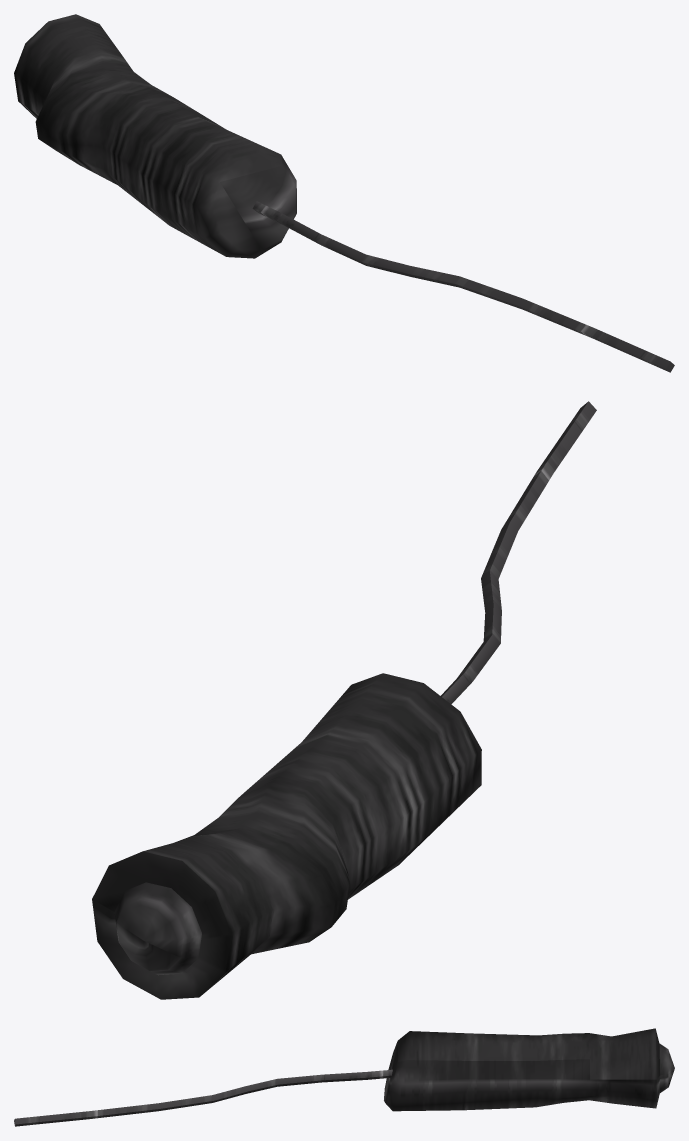
File: det_1st.glb
The picture shows the model from 3 angles, top to bottom: view 1: azimuth 30°, elevation 25°; view 2: azimuth 150°, elevation 25°; view 3: azimuth 270°, elevation 25°; orthographic projection. The views are drawn at different scales.
Parts seen in each view (by area): view 1: _det_1st; view 2: _det_1st; view 3: _det_1st.
Boxes of the visible parts, box(x1,y1,x2,y2) form: _det_1st: box(14, 14, 674, 372); _det_1st: box(92, 401, 596, 999); _det_1st: box(14, 1028, 674, 1126).
Size of the model in its own units: 0.1159 by 0.0509 by 0.4061.
Materials: 2 (2 with a texture image).
